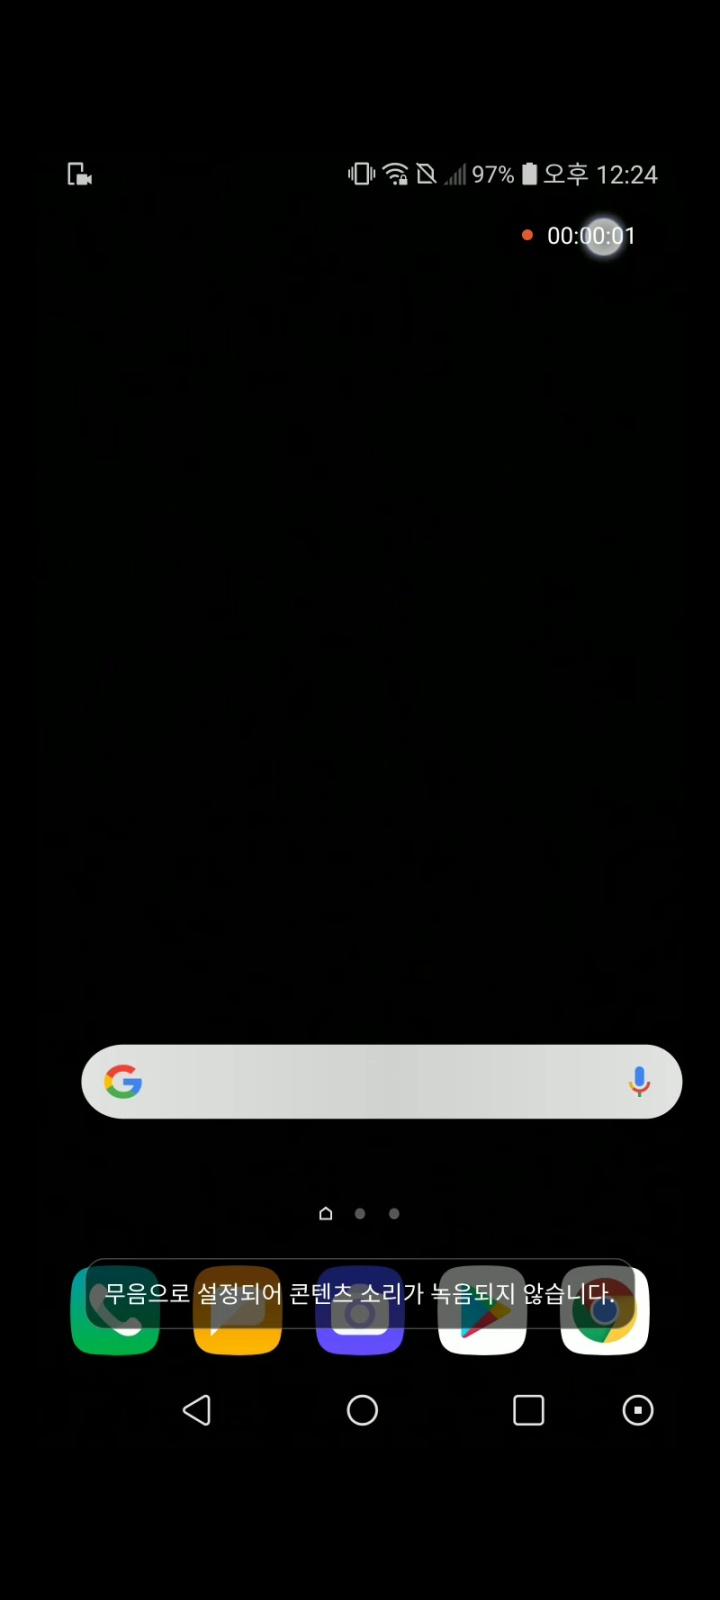Cursor: (581, 215, 626, 261)
